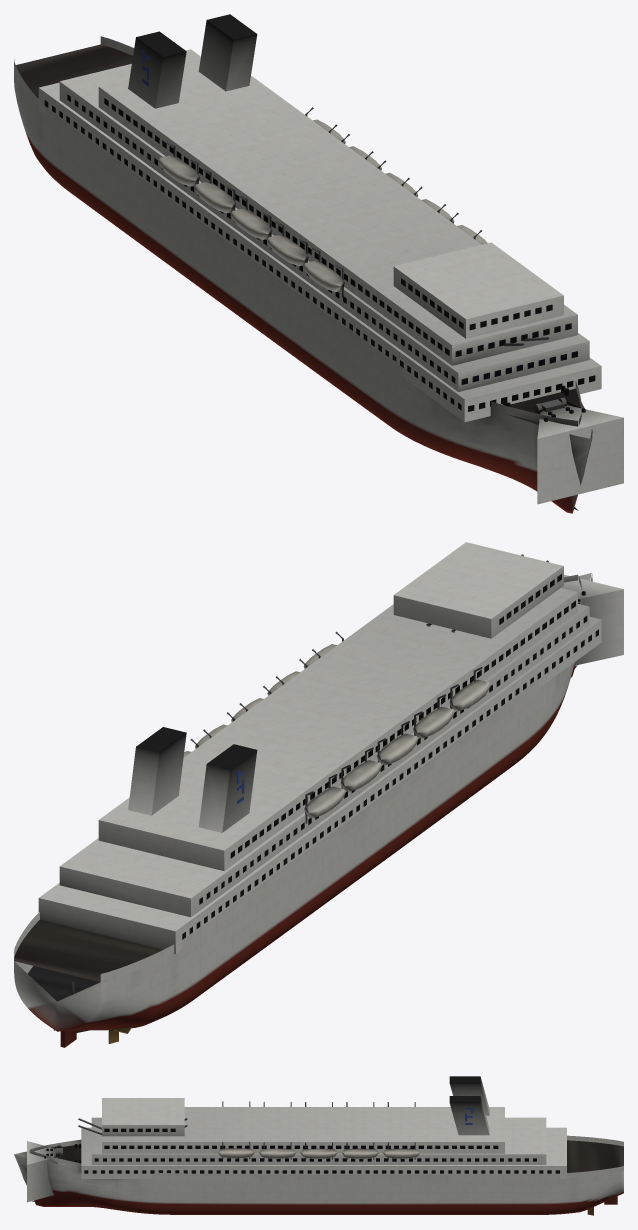
File: model_built.glb
The picture shows the model from 3 angles, top to bottom: view 1: azimuth 30°, elevation 25°; view 2: azimuth 150°, elevation 25°; view 3: azimuth 270°, elevation 25°; orthographic projection. The views are drawn at different scales.
Parts seen in each view (by area): view 1: main; view 2: main; view 3: main.
Boxes of the visible parts, <box> form: main: <box>14,14,623,513</box>; main: <box>14,542,623,1047</box>; main: <box>14,1076,623,1215</box>.
Bounding box in the file's own units: 21.08 × 25.17 × 118.
1 material, 1 textured.
